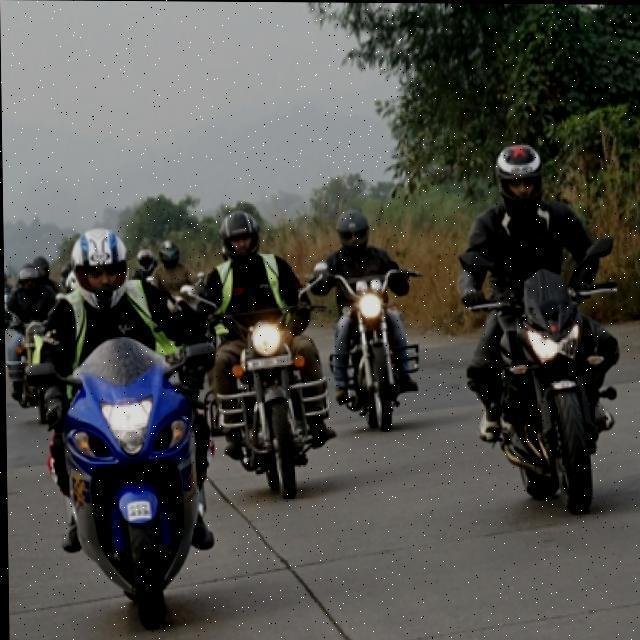Helmet: (64, 229, 136, 310), (490, 144, 548, 212), (215, 209, 262, 259)
